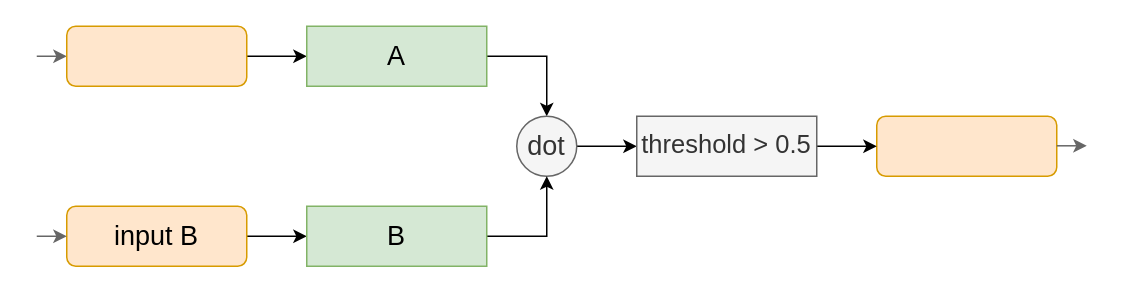
This 1125x293 diagram has some shape labels left out. Here are the shapes that lost their labels. From the top down, the centre of each, then its label:
At [156,55]: "input A".
At [966,145]: "output".
